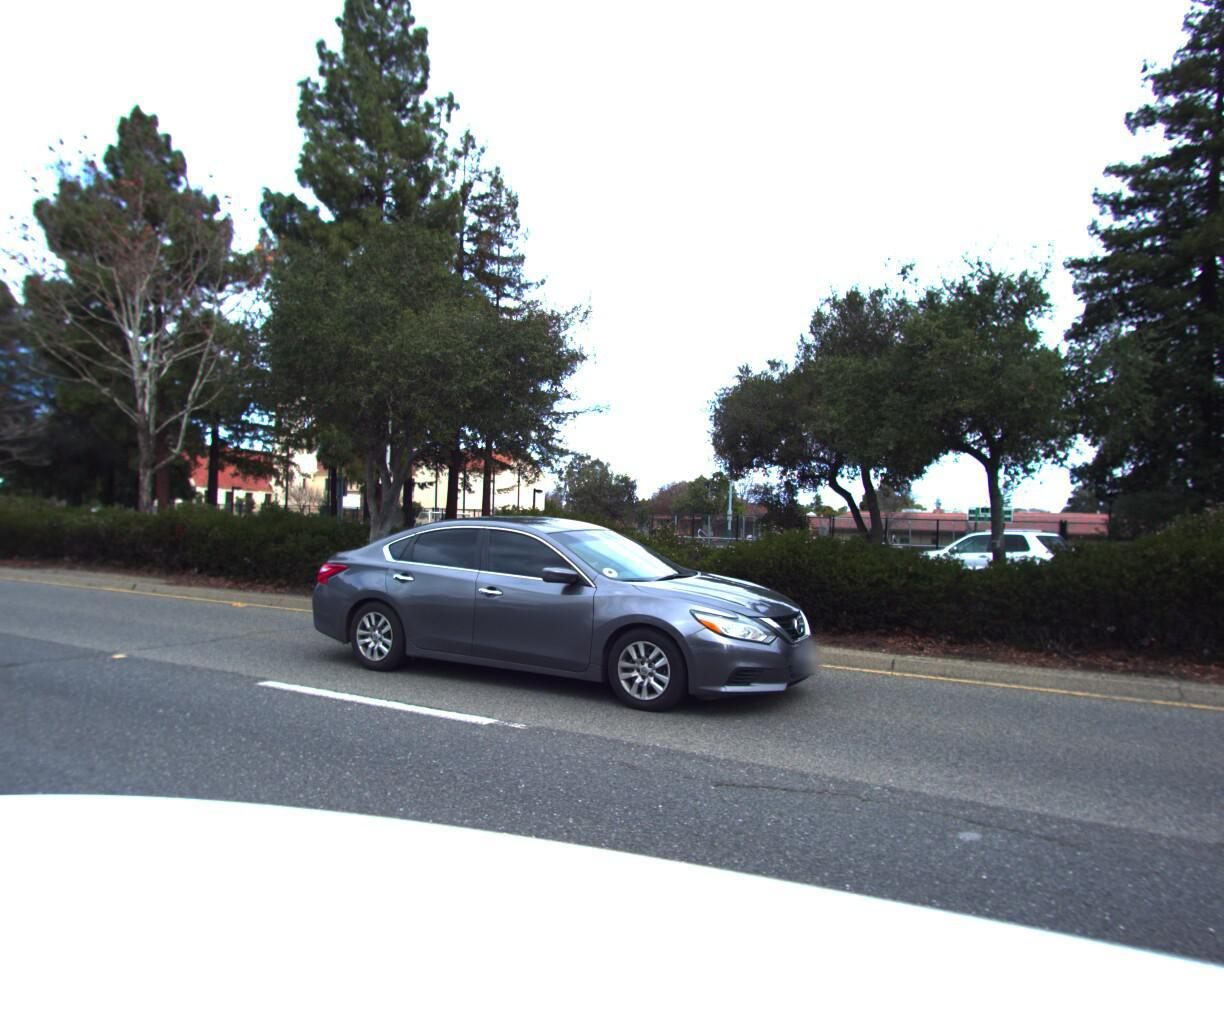car: (307, 507, 833, 728), (892, 517, 1081, 601), (368, 514, 508, 562)
